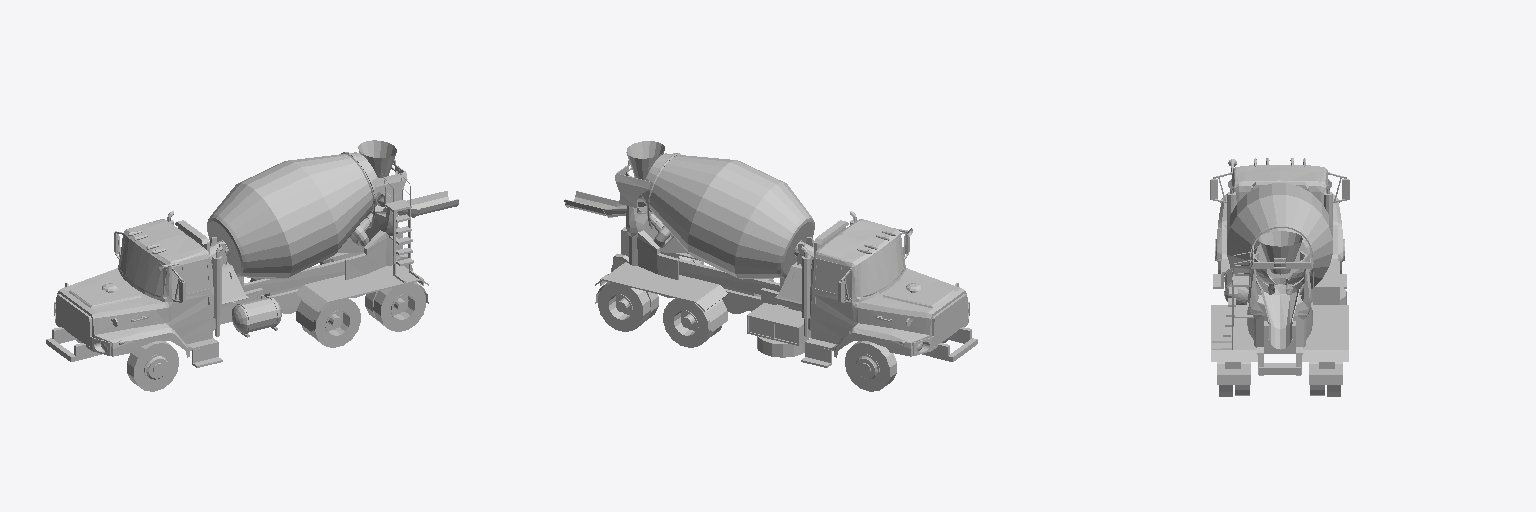
The model's file is truck.obj.
The picture shows the model from 3 angles: view 1: azimuth 30°, elevation 25°; view 2: azimuth 150°, elevation 25°; view 3: azimuth 270°, elevation 25°; orthographic projection.
Parts seen in each view (by area): view 1: Cement_Mixer_Truck; view 2: Cement_Mixer_Truck; view 3: Cement_Mixer_Truck.
Boxes of the visible parts, box(x1,y1,x2,y2) form: Cement_Mixer_Truck: box(46, 140, 458, 391); Cement_Mixer_Truck: box(564, 141, 977, 391); Cement_Mixer_Truck: box(1210, 158, 1349, 396).
Bounding box in the file's own units: 28.77 × 11.31 × 8.8.